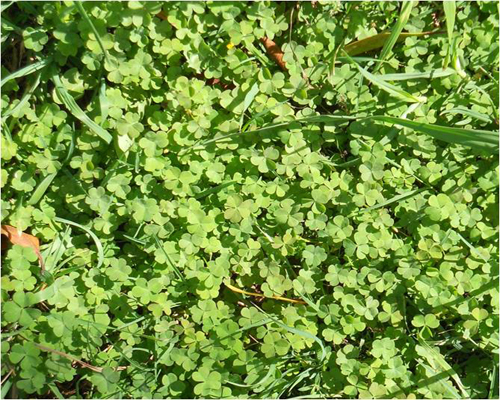oxalis: (38, 38, 500, 362)
